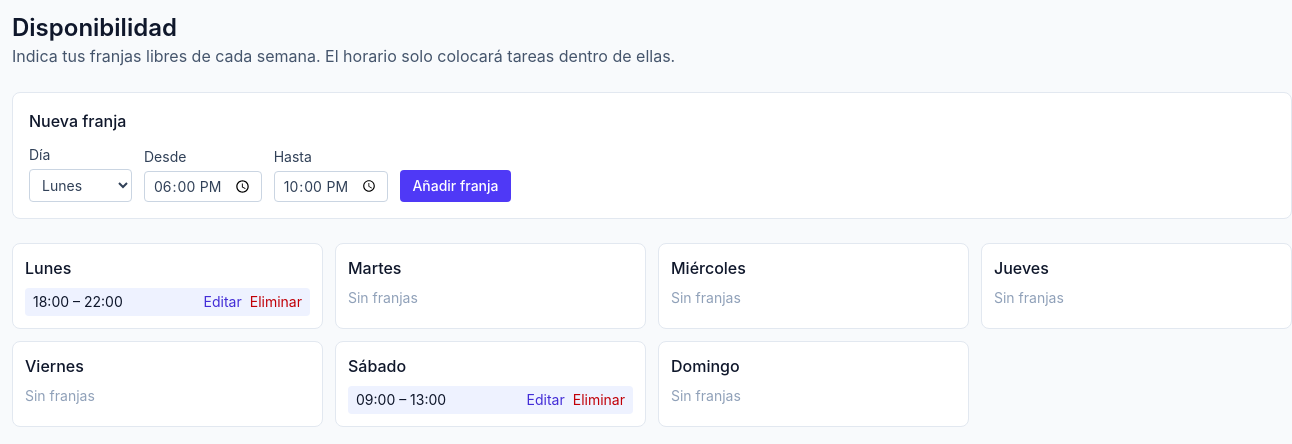
Scenario: AvailabilityPage (US2) › convierte HH:mm a minutos al crear una franja
Check: the element "Lunes" is shown, box [12, 243, 323, 329]
Select "Miércoles" in the dropdown labelled "Día" at (80, 186), box [29, 169, 132, 202]
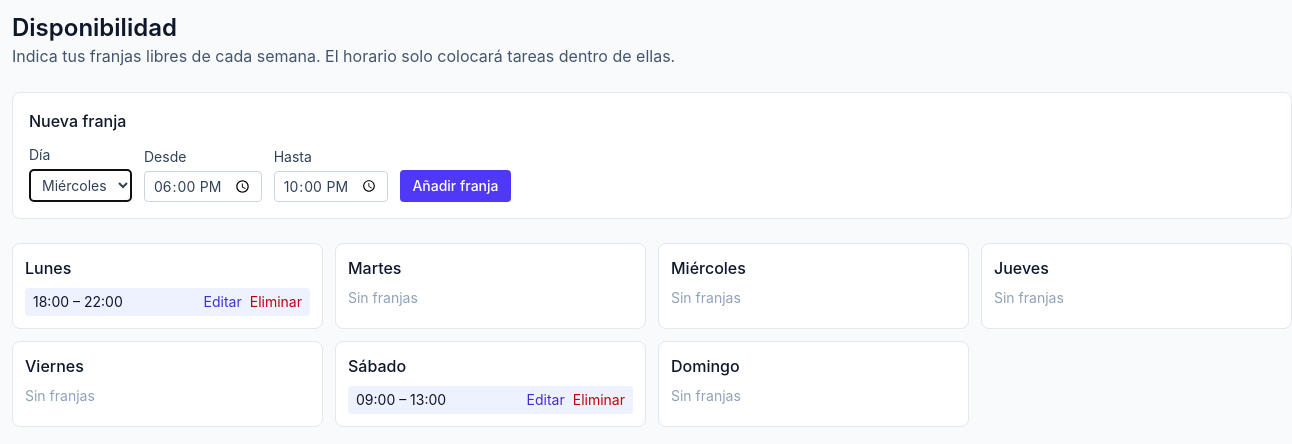
Clear the time field labelled "Desde" at (203, 187), box [144, 171, 262, 202]
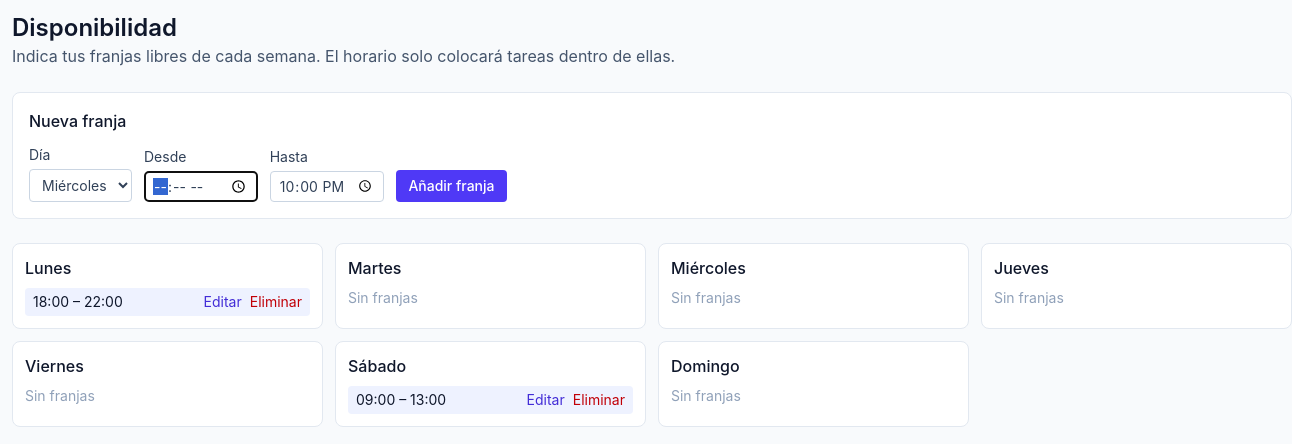
Type "07:30" into the time field labelled "Desde" at (201, 187), box [144, 171, 258, 202]
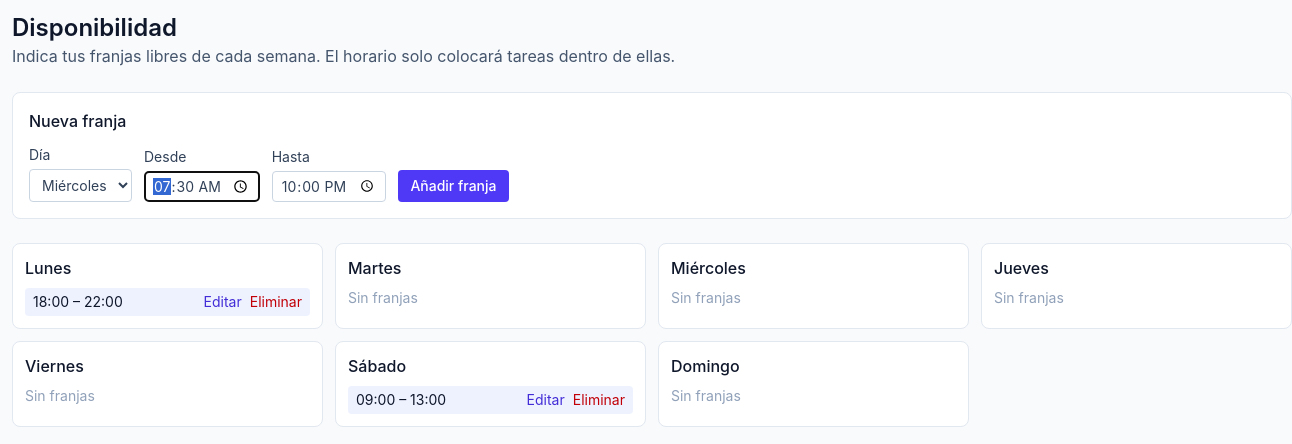
Clear the time field labelled "Hasta" at (329, 187), box [272, 171, 386, 202]
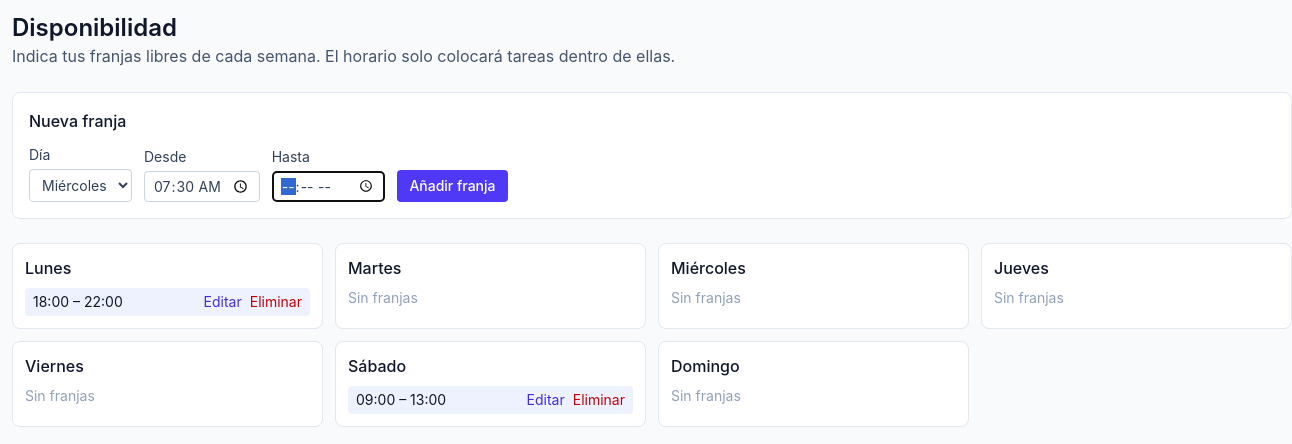
Type "09:00" into the time field labelled "Hasta" at (329, 187), box [272, 171, 385, 202]
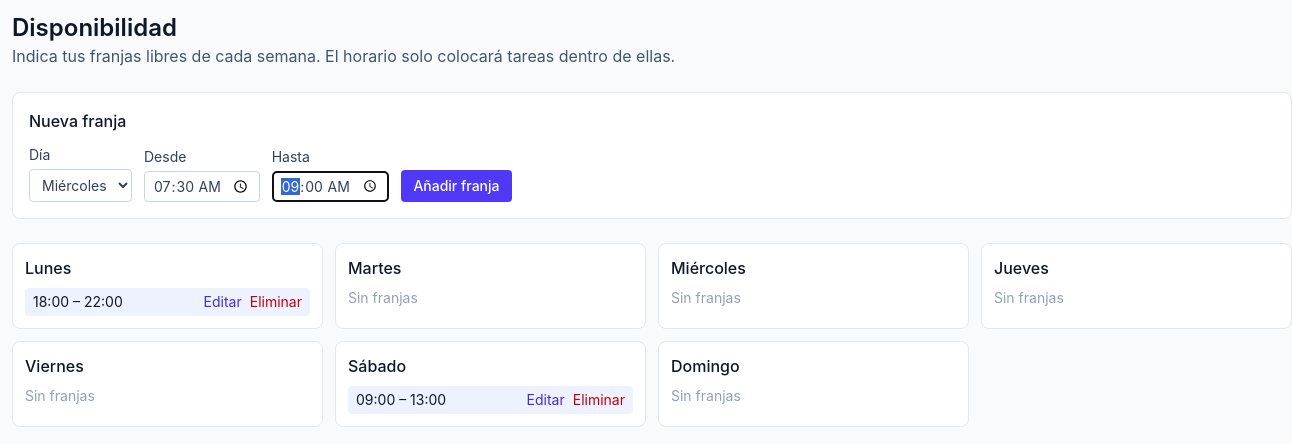
Click the button "Añadir franja" at (456, 186), box [401, 170, 512, 202]
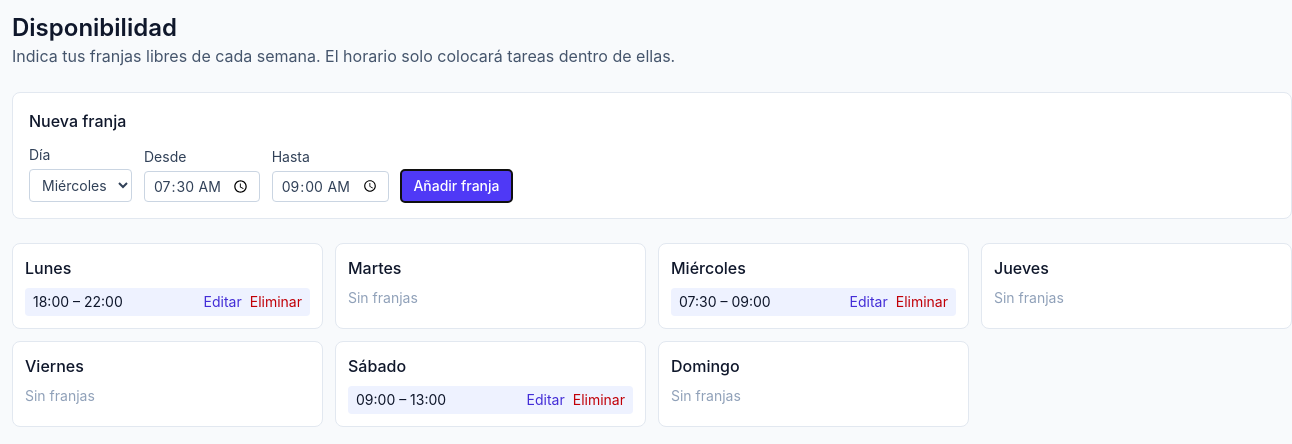
Check: the text "07:30 – 09:00" is shown, box [679, 292, 771, 312]
